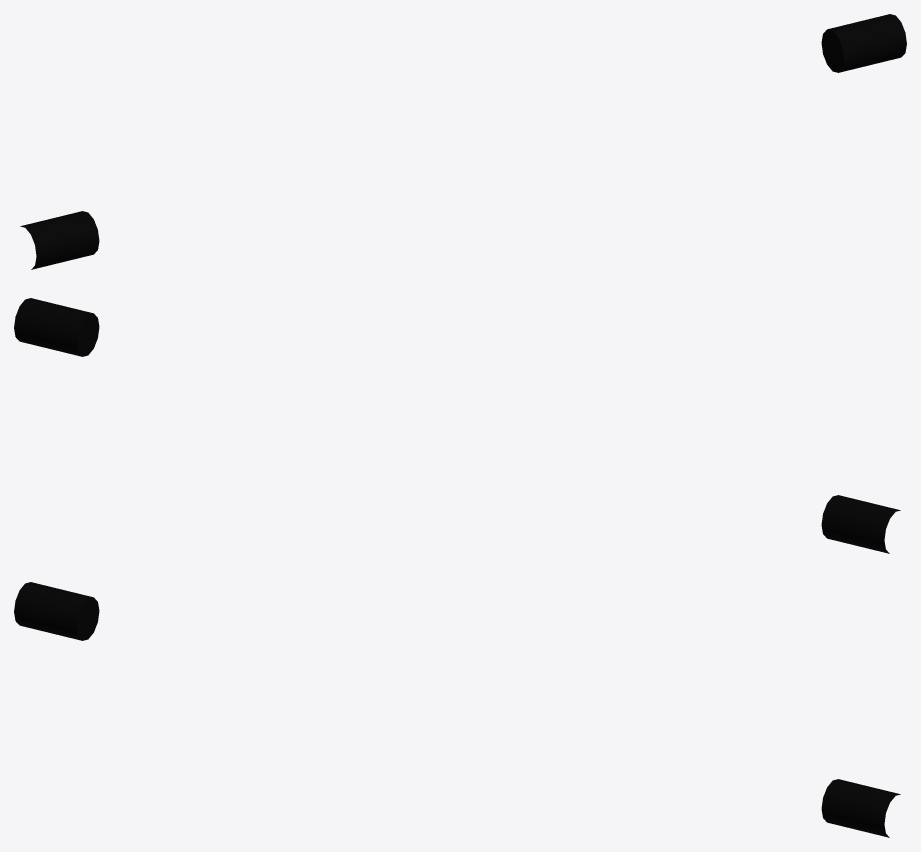
3 renders of one model, top to bottom at view 1: azimuth 30°, elevation 25°; view 2: azimuth 150°, elevation 25°; view 3: azimuth 330°, elevation 25°, orthographic.
Visible parts, largest first — view 1: Joint_0_Object_1, Joint_0_Object_0; view 2: Joint_0_Object_1, Joint_0_Object_0; view 3: Joint_0_Object_0, Joint_0_Object_1.
Boxes of the visible parts, left/top/right/bottom form: Joint_0_Object_1: left=821, top=14, right=906, bottom=72; Joint_0_Object_0: left=20, top=211, right=99, bottom=269; Joint_0_Object_1: left=14, top=298, right=99, bottom=356; Joint_0_Object_0: left=821, top=495, right=900, bottom=553; Joint_0_Object_0: left=14, top=582, right=99, bottom=640; Joint_0_Object_1: left=821, top=779, right=900, bottom=837.
Size of the model in its own units: 2200 by 98.54 by 98.54.
1 material, 1 textured.
